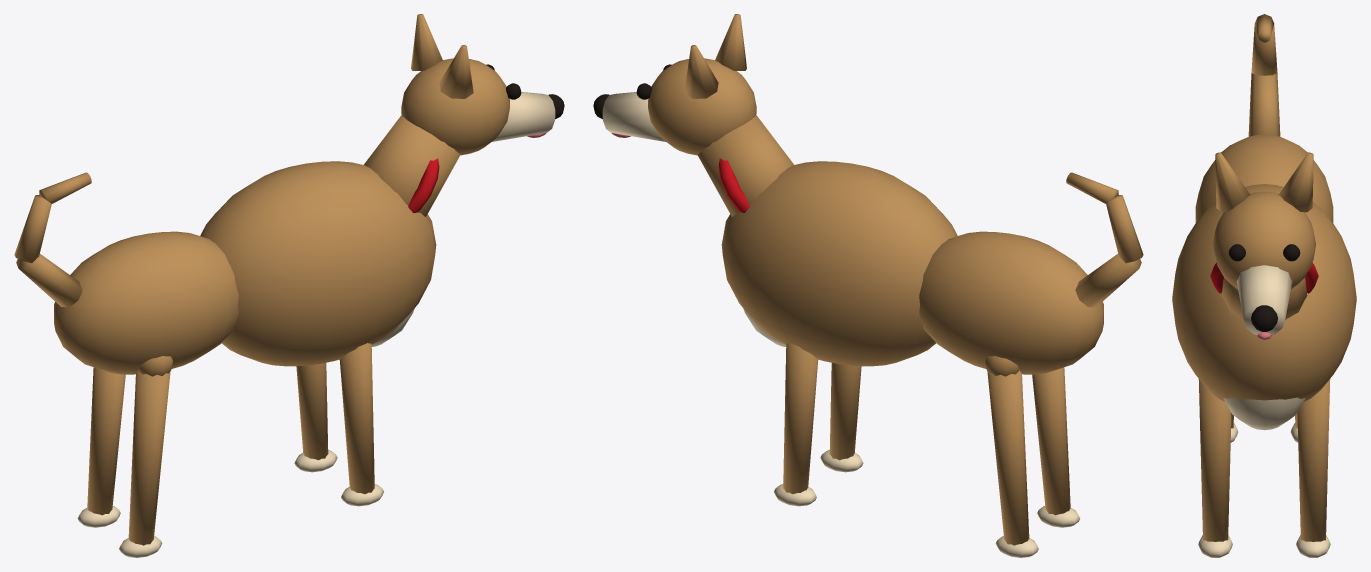
File: dog.glb
The picture shows the model from 3 angles, left to right: view 1: azimuth 30°, elevation 25°; view 2: azimuth 150°, elevation 25°; view 3: azimuth 270°, elevation 25°; orthographic projection. The views are drawn at different scales.
Parts seen in each view (by area): view 1: Sphere, Sphere.001, Sphere.003, Leg_BR, Leg_FR, Leg_BL, Cone, Leg_FL, Cone.001, Cone.004, Cone.005, Cone.002 (+3 smaller); view 2: Sphere, Sphere.001, Sphere.003, Leg_BL, Leg_FL, Leg_BR, Cone, Leg_FR, Cone.001, Cone.004, Cone.005, Cone.003 (+3 smaller); view 3: Sphere, Sphere.003, Leg_FL, Leg_FR, Sphere.001, Cone.001, Sphere.002, Cone.004, Cone.002, Cone.003, Cone, Cone.005 (+3 smaller).
Boxes of the visible parts, x1,y1,x2,y2 form: Sphere: (200, 161, 436, 366); Sphere.001: (54, 231, 238, 374); Sphere.003: (401, 58, 509, 155); Leg_BR: (119, 356, 172, 557); Leg_FR: (339, 343, 383, 506); Leg_BL: (77, 367, 125, 527); Cone: (364, 115, 460, 216); Leg_FL: (294, 363, 337, 472); Cone.001: (492, 92, 555, 141); Cone.004: (16, 254, 82, 307); Cone.005: (14, 195, 51, 263); Cone.002: (439, 45, 473, 98); Sphere: (721, 161, 957, 366); Sphere.001: (919, 231, 1103, 374); Sphere.003: (648, 58, 756, 155); Leg_BL: (985, 356, 1038, 557); Leg_FL: (774, 343, 818, 506); Leg_BR: (1032, 367, 1080, 527); Cone: (697, 115, 793, 216); Leg_FR: (820, 363, 863, 472); Cone.001: (602, 92, 665, 141); Cone.004: (1075, 254, 1141, 307); Cone.005: (1106, 195, 1143, 263); Cone.003: (684, 45, 718, 98); Sphere: (1172, 184, 1356, 401); Sphere.003: (1213, 192, 1315, 289); Leg_FL: (1296, 379, 1330, 557); Leg_FR: (1198, 379, 1232, 557); Sphere.001: (1195, 134, 1333, 222); Cone.001: (1236, 265, 1292, 335); Sphere.002: (1223, 397, 1305, 430); Cone.004: (1248, 73, 1280, 136); Cone.002: (1215, 152, 1250, 212); Cone.003: (1278, 152, 1313, 212); Cone: (1221, 277, 1307, 319); Cone.005: (1251, 24, 1277, 75).
Bounding box in the file's own units: 1.22 × 0.9209 × 0.34.
